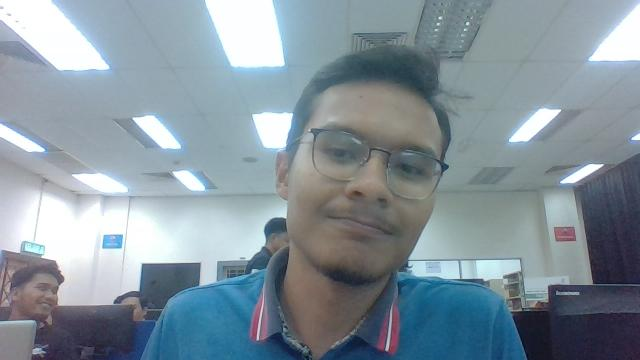senang: (284, 68, 452, 283)
